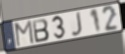1: (90, 8, 103, 34)
2: (101, 5, 120, 34)
3: (51, 14, 67, 41)
B: (31, 18, 50, 44)
J: (71, 11, 84, 37)
M: (14, 19, 35, 48)
